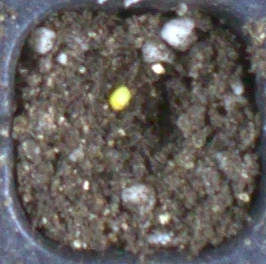chilli seed: (109, 85, 131, 111)
